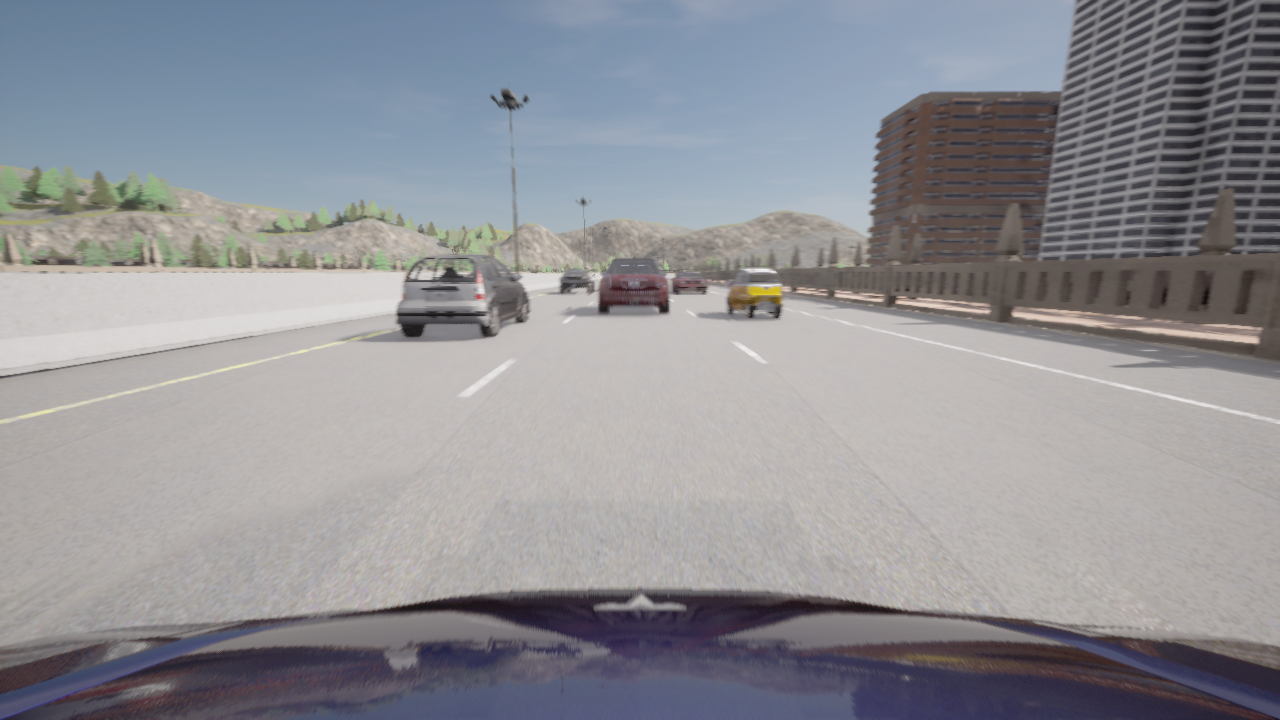cyclist: (0, 588, 1279, 719), (395, 253, 528, 337), (599, 257, 668, 313), (727, 268, 782, 318), (560, 268, 595, 292), (671, 272, 707, 293)
